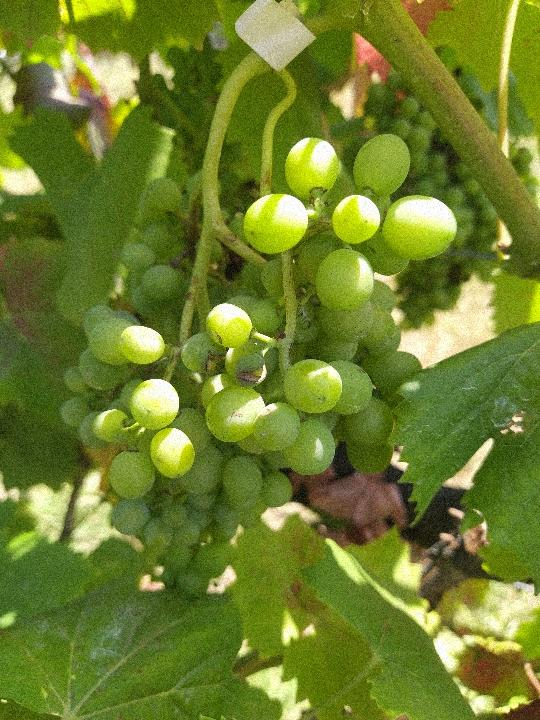grape: (59, 132, 458, 600)
